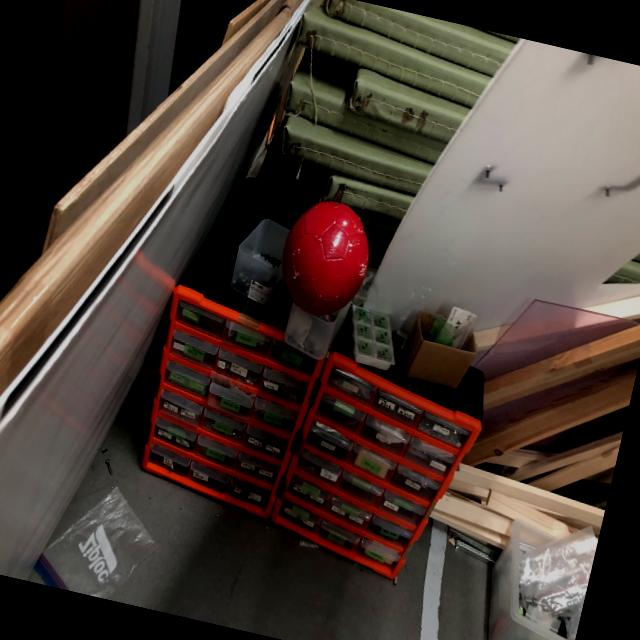red_ball: (274, 190, 382, 321)
